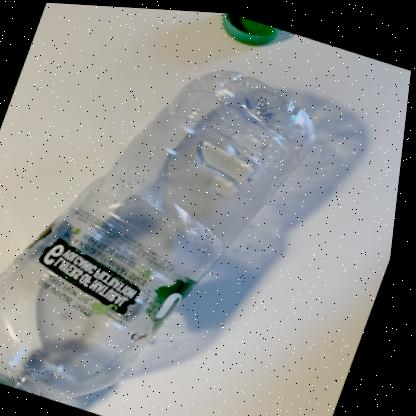Plastic: (0, 67, 316, 400)
Waste: (221, 10, 293, 42)
